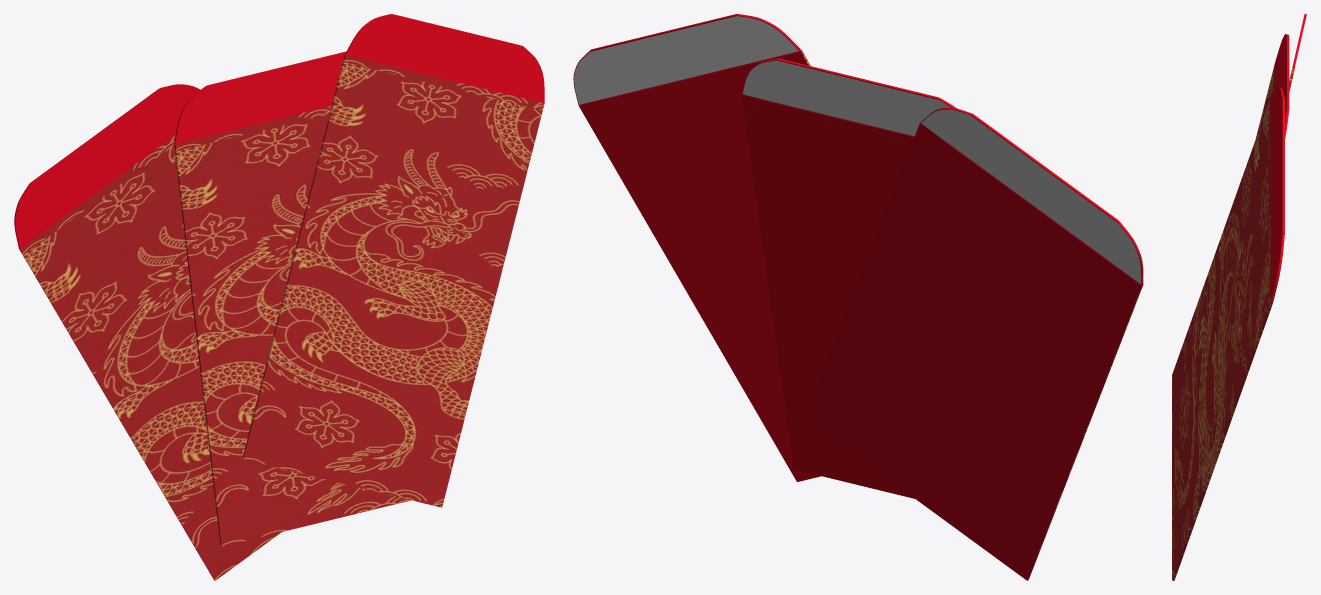
The model's file is baolixi.glb.
The picture shows the model from 3 angles, left to right: view 1: azimuth 30°, elevation 25°; view 2: azimuth 150°, elevation 25°; view 3: azimuth 270°, elevation 25°; orthographic projection. The views are drawn at different scales.
Visible parts, largest first — view 1: Plane, Plane_1, Plane_2, Plane_004_2, Plane_004, Plane_004_1; view 2: Plane_2, Plane, Plane_1, Plane_004, Plane_004_2, Plane_004_1; view 3: Plane, Plane_004, Plane_004_1, Plane_1.
Boxes of the visible parts, x1,y1,x2,y2 form: Plane: (242,54,544,507); Plane_1: (174,106,410,546); Plane_2: (19,135,281,580); Plane_004_2: (14,84,200,248); Plane_004: (345,14,544,103); Plane_004_1: (174,51,345,143); Plane_2: (805,123,1143,580); Plane: (579,50,821,481); Plane_1: (742,95,914,498); Plane_004: (573,14,801,105); Plane_004_2: (920,107,1143,285); Plane_004_1: (742,58,956,136); Plane: (1172,98,1272,580); Plane_004: (1270,87,1284,303); Plane_004_1: (1275,34,1289,138); Plane_1: (1256,63,1274,137).
Size of the model in its own units: 3.91 by 3.48 by 0.8291.
3 materials, 1 textured.
